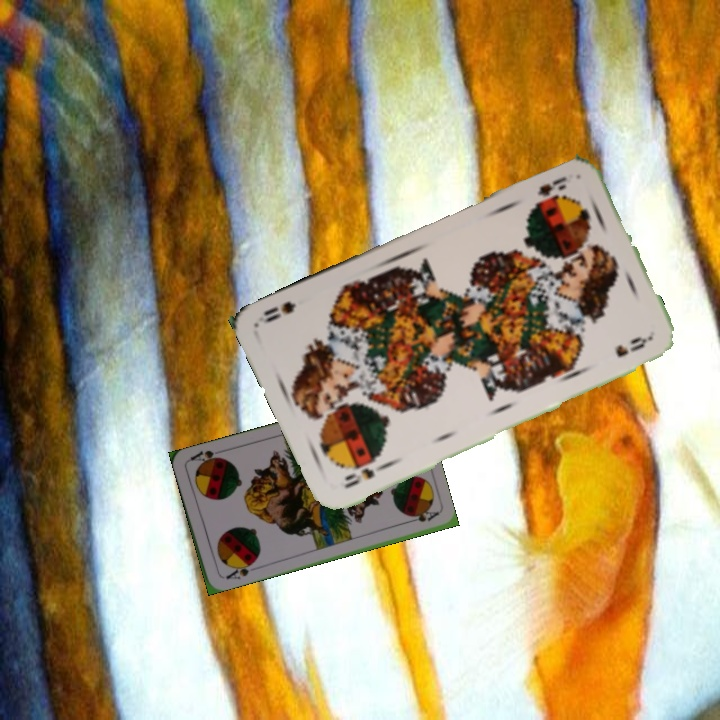SA: (219, 557, 257, 582)
SO: (340, 458, 391, 491), (533, 172, 569, 199)
